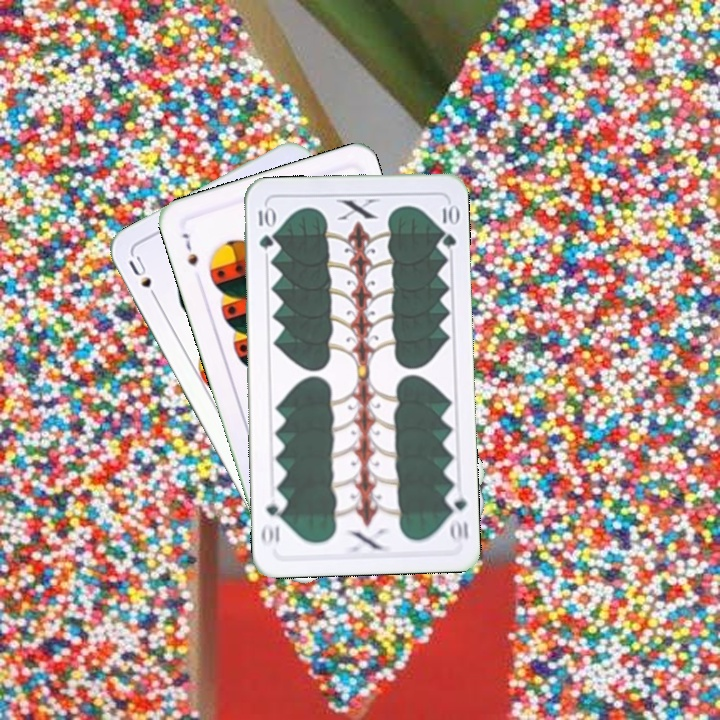G10: (443, 486, 471, 545), (254, 203, 275, 252)
S7: (177, 229, 201, 270)
SU: (124, 251, 162, 306)
